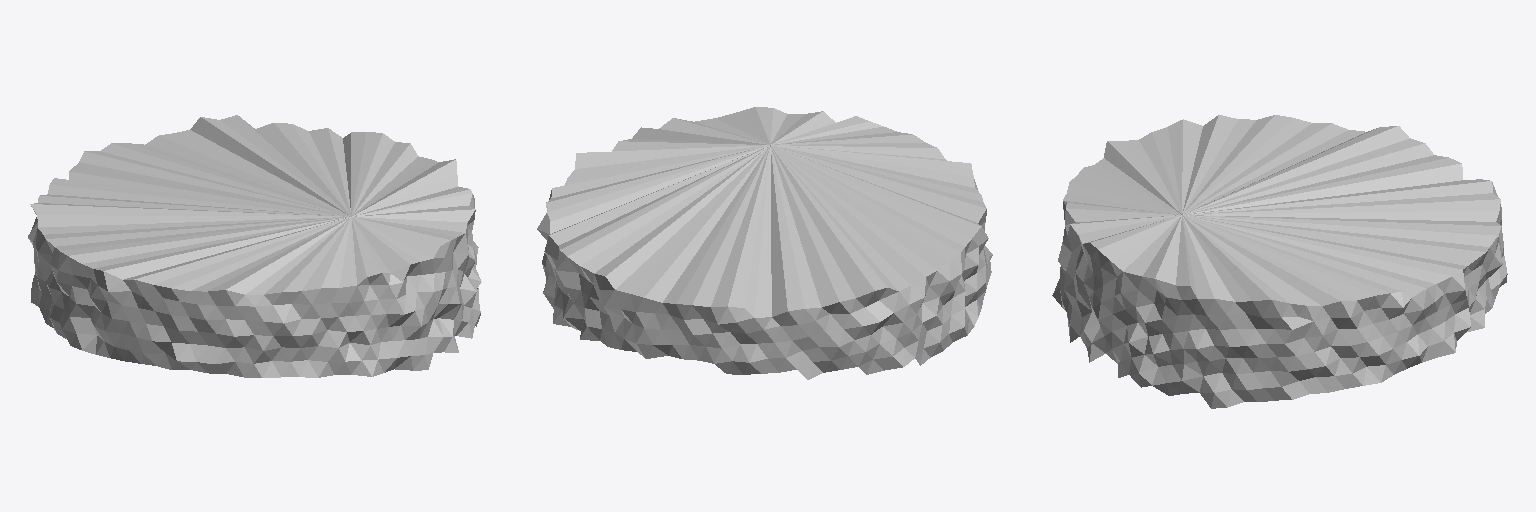
File: bad_shaped_mesh.obj
3 views of the same model, side by side, from view 1: azimuth 30°, elevation 25°; view 2: azimuth 150°, elevation 25°; view 3: azimuth 270°, elevation 25° (orthographic).
Visible parts, largest first — view 1: block.001; view 2: block.001; view 3: block.001.
Boxes of the visible parts, x1,y1,x2,y2 form: block.001: [28, 115, 481, 377]; block.001: [537, 107, 992, 379]; block.001: [1052, 115, 1507, 408].
Bounding box in the file's own units: 14.5 × 4.5 × 14.58.